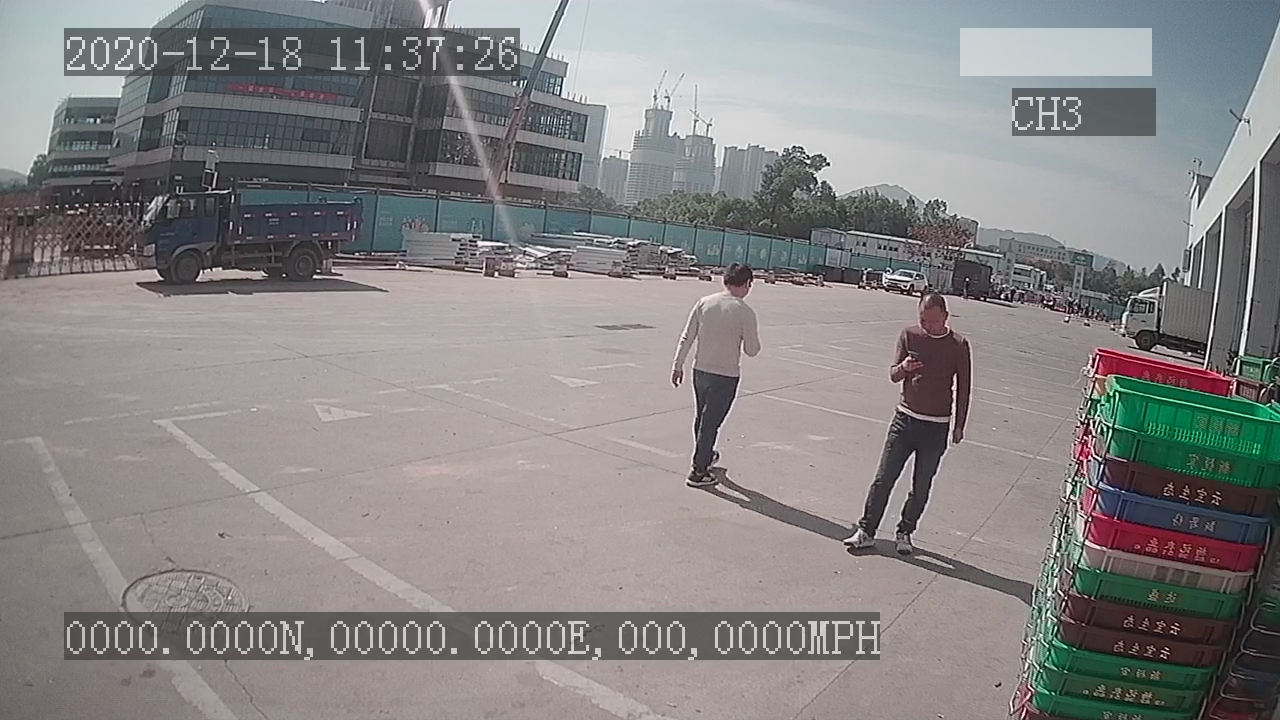person: (843, 291, 978, 563), (669, 255, 766, 488)
